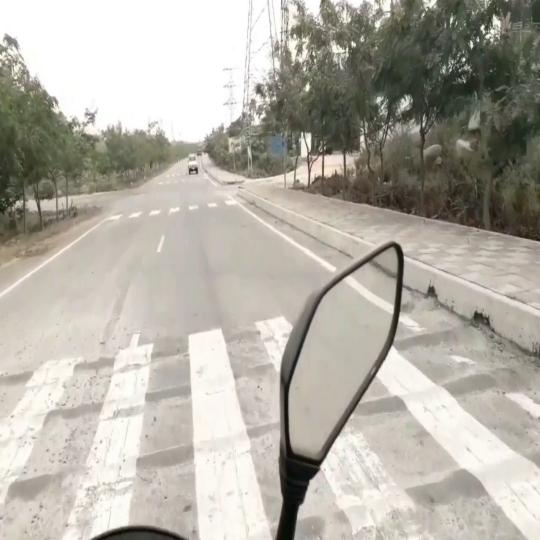Speed Bump: (0, 433, 246, 519), (0, 313, 285, 385), (0, 354, 278, 424), (335, 449, 539, 539), (368, 364, 521, 419), (390, 327, 472, 353), (400, 294, 442, 316)
